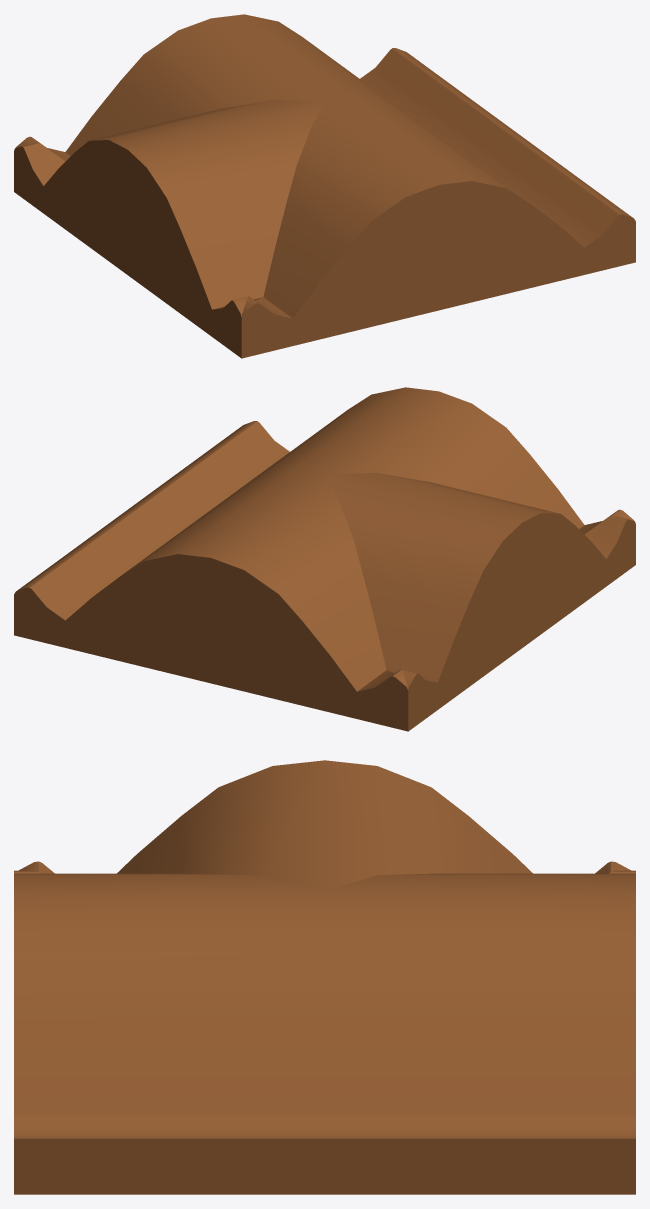
Rendered from CI_014_016_017_wall_deco_3_joins.glb.
3 renders of one model, top to bottom at view 1: azimuth 30°, elevation 25°; view 2: azimuth 150°, elevation 25°; view 3: azimuth 270°, elevation 25°, orthographic. The views are drawn at different scales.
Parts seen in each view (by area): view 1: Plane; view 2: Plane; view 3: Plane.
Part boxes in pixels (x1=…): Plane: x1=14, y1=14, x2=635, y2=358; Plane: x1=14, y1=387, x2=635, y2=731; Plane: x1=14, y1=760, x2=635, y2=1194.
Size of the model in its own units: 0.75 by 0.2282 by 0.75.
